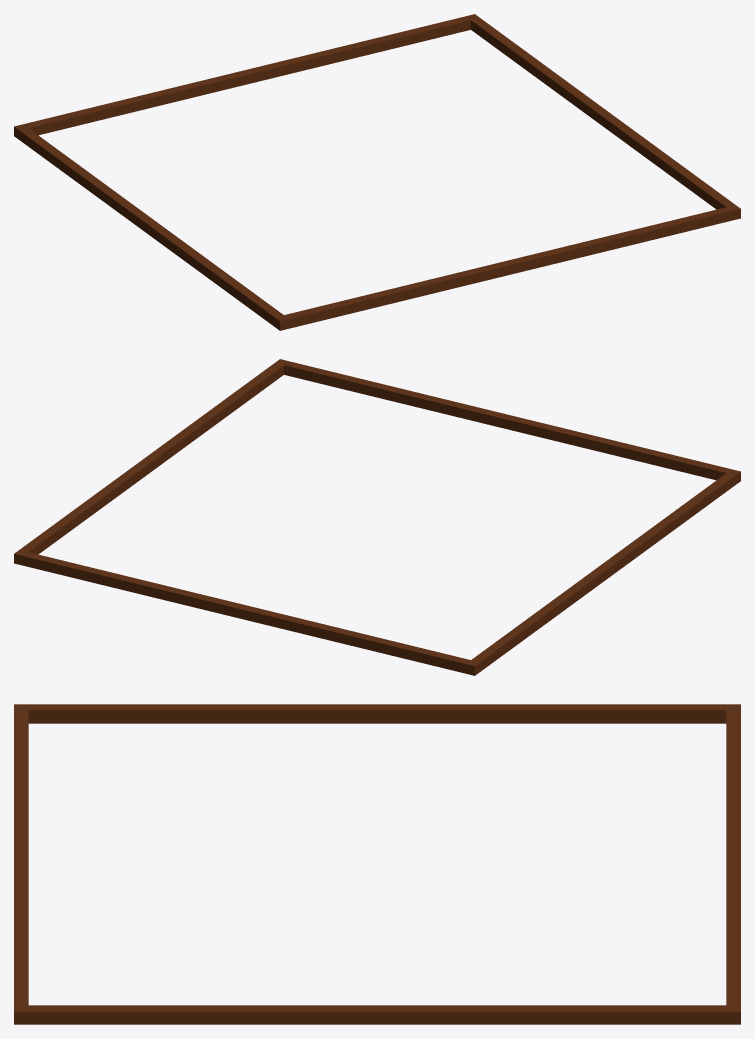
Rendered from border.fbx.
3 views of the same model, one above another, from view 1: azimuth 30°, elevation 25°; view 2: azimuth 150°, elevation 25°; view 3: azimuth 270°, elevation 25° (orthographic). The views are drawn at different scales.
Visible parts, largest first — view 1: Border; view 2: Border; view 3: Border.
Part boxes in pixels (x1,y1,x2,y2): Border: (14,14,740,330); Border: (14,359,740,675); Border: (14,704,740,1024).
Bounding box in the file's own units: 10000 × 200 × 10000.
